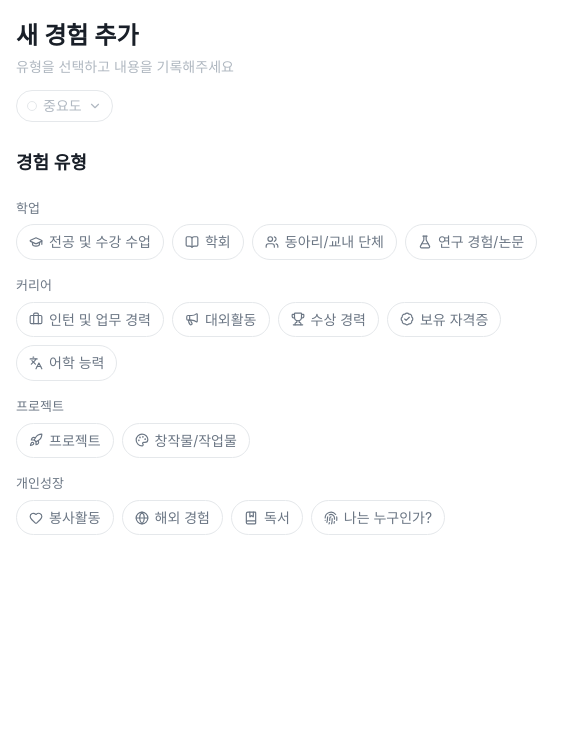
Test case: FRT-190 선택 필드 숨김 › × 를 누르면 필드가 사라지고, 되살리기 토글로 되돌릴 수 있다
Click the button "대외활동" at x=221, y=319, box [172, 302, 270, 337]
(page scrolled)
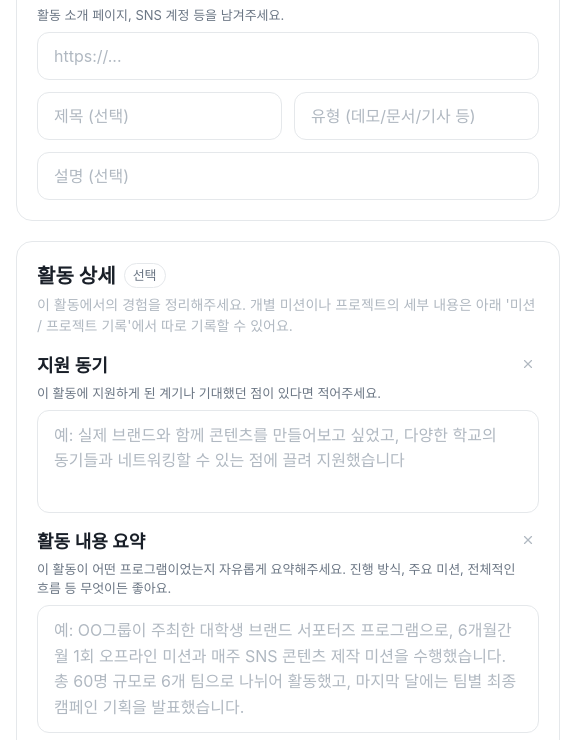
Click the button named "지원 동기 숨기기" at x=528, y=364, box [517, 353, 539, 375]
(page scrolled)
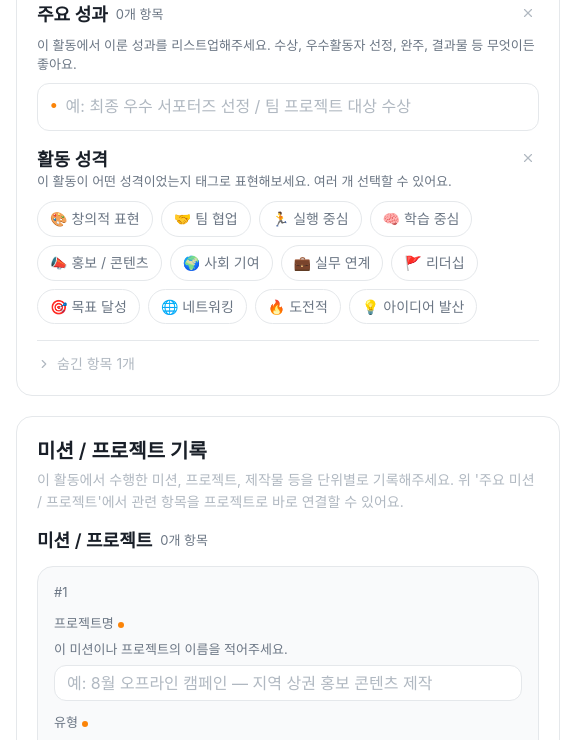
Click the button "숨긴 항목 1개" at x=86, y=364, box [37, 353, 135, 375]
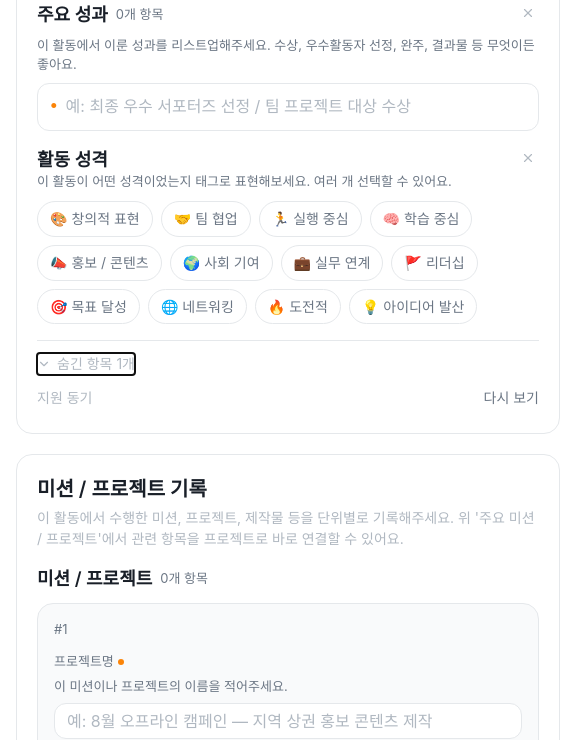
Click the button "다시 보기" at x=511, y=398, box [484, 387, 539, 409]
(page scrolled)
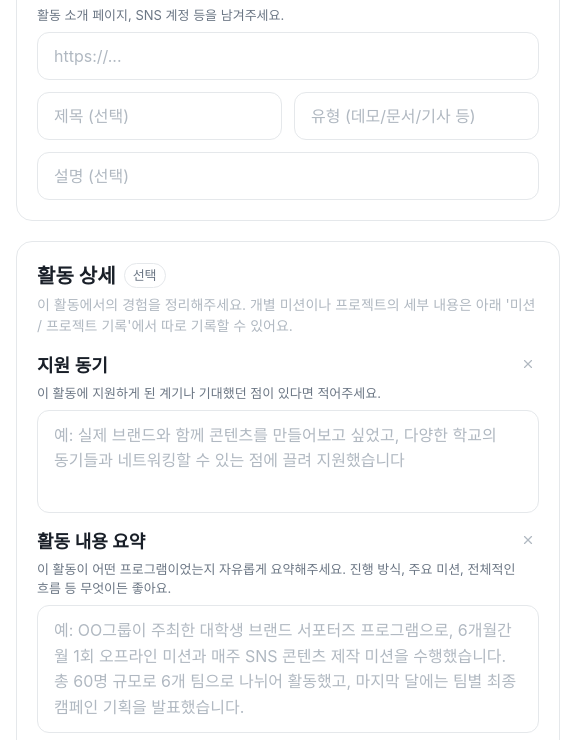
Now the button "숨긴 항목" is gone
